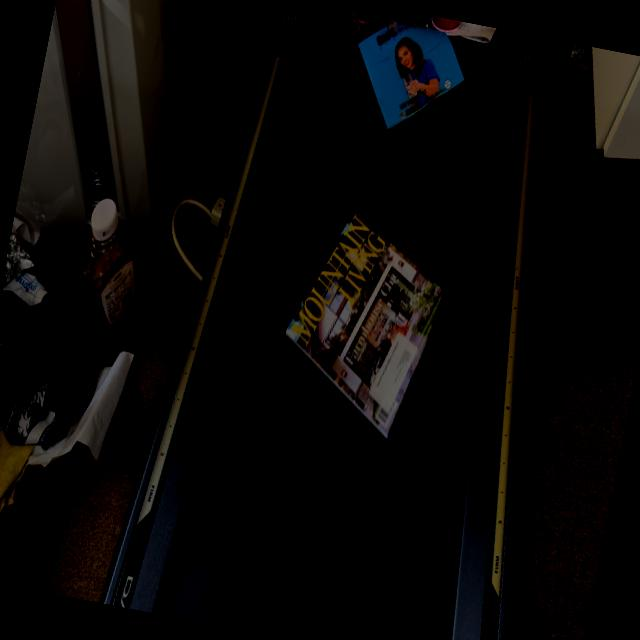Recycle: (267, 200, 467, 450), (328, 0, 477, 144)
